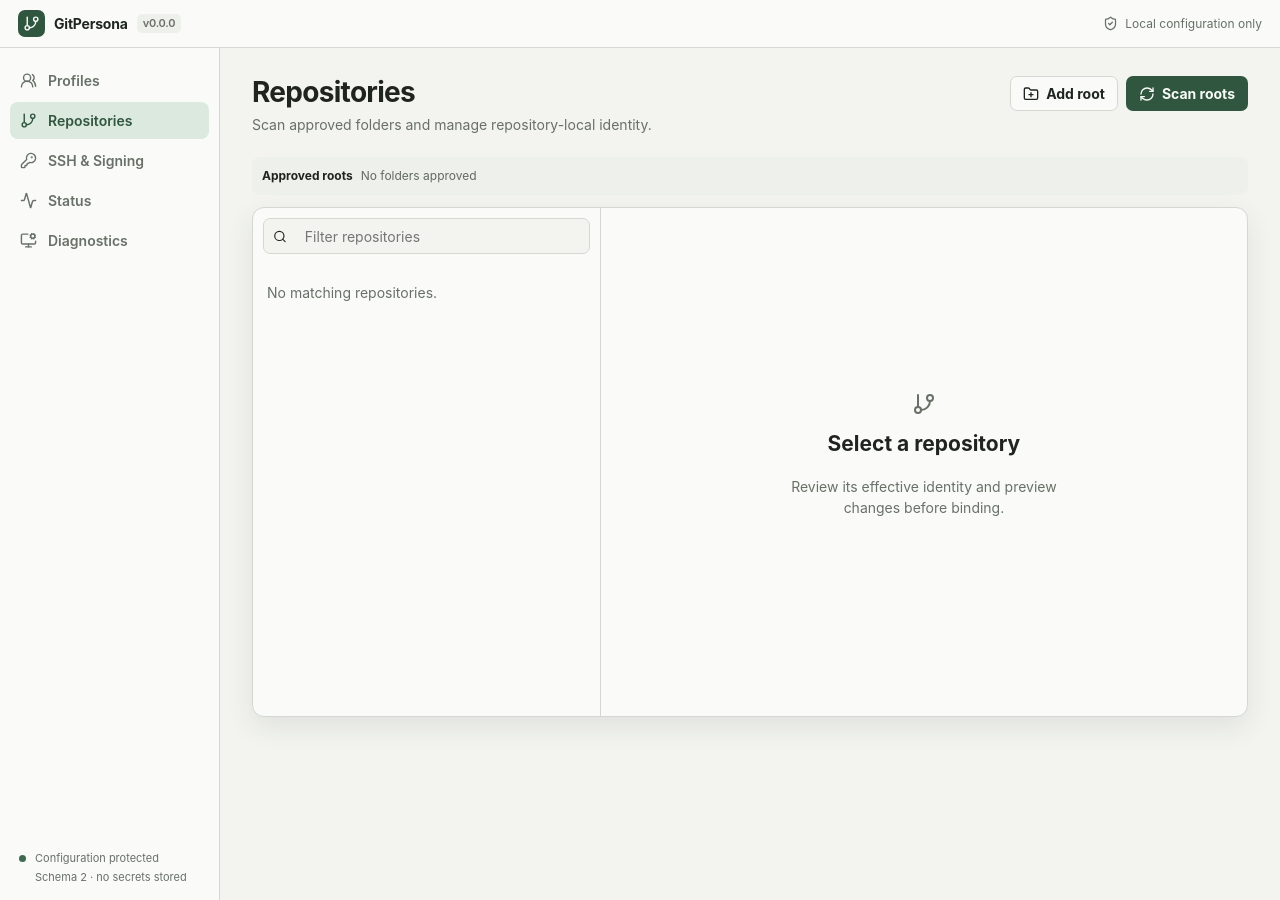
it: GitPersona app shell › renders SSH & Signing without crashing when signing_format is omitted
Click the button "SSH & Signing" at (110, 160), box 10,142 -> 209,179
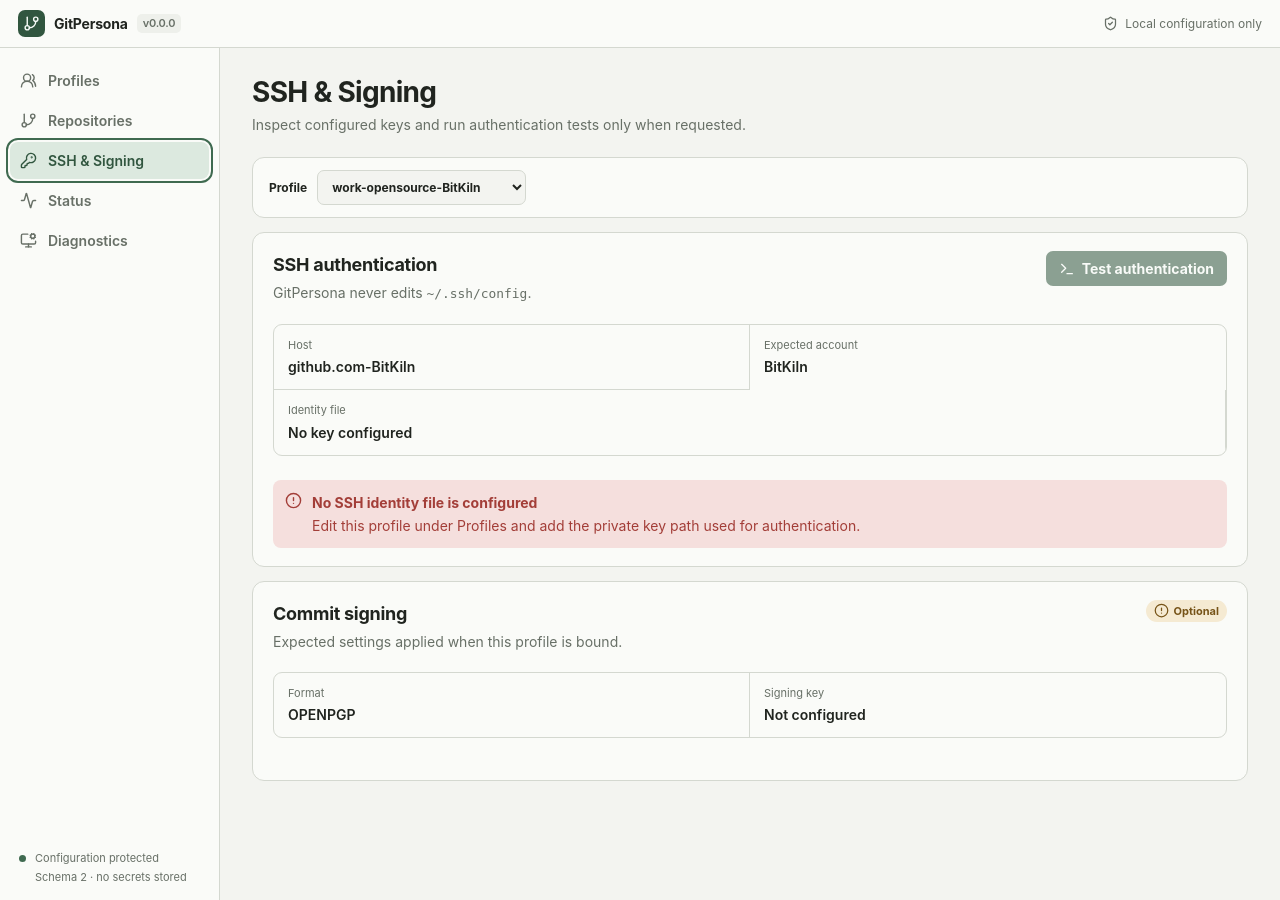
Now the heading "SSH & Signing" is shown, box 252,75 -> 436,109
Now the text "OPENPGP" is shown, box 288,706 -> 356,723
